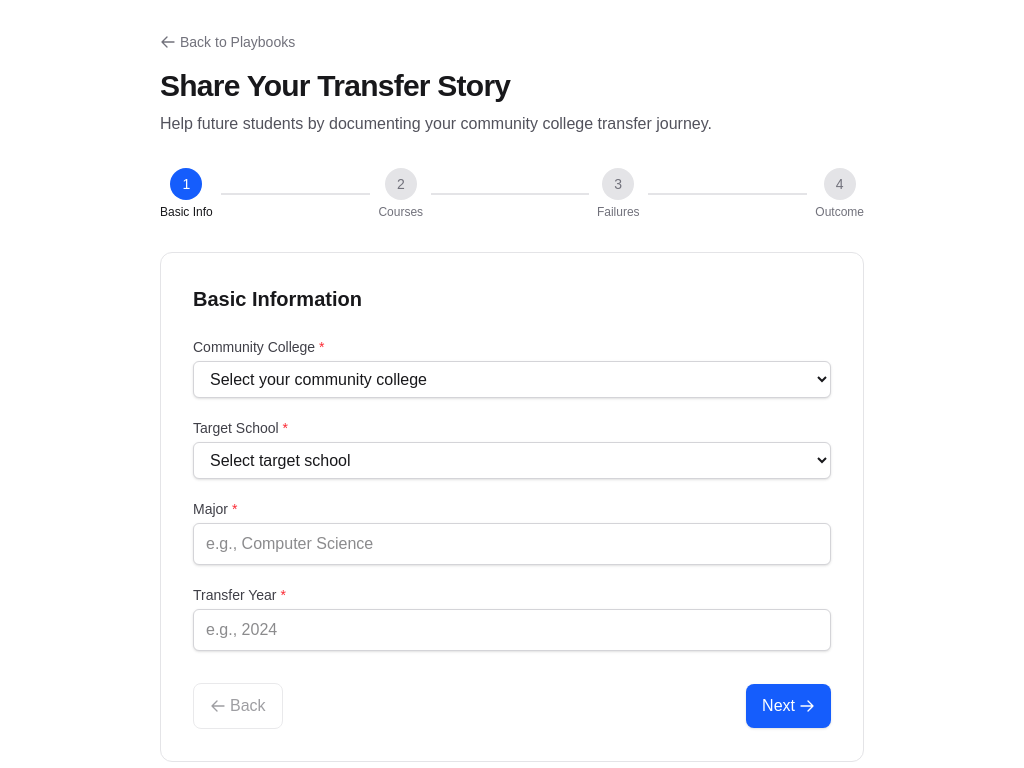
Scenario: PlaybookSubmitClient › shows validation errors for empty required fields on next
Step 1. Click the button with test id "next-step-button" → x=789, y=706, box [746,684,831,728]
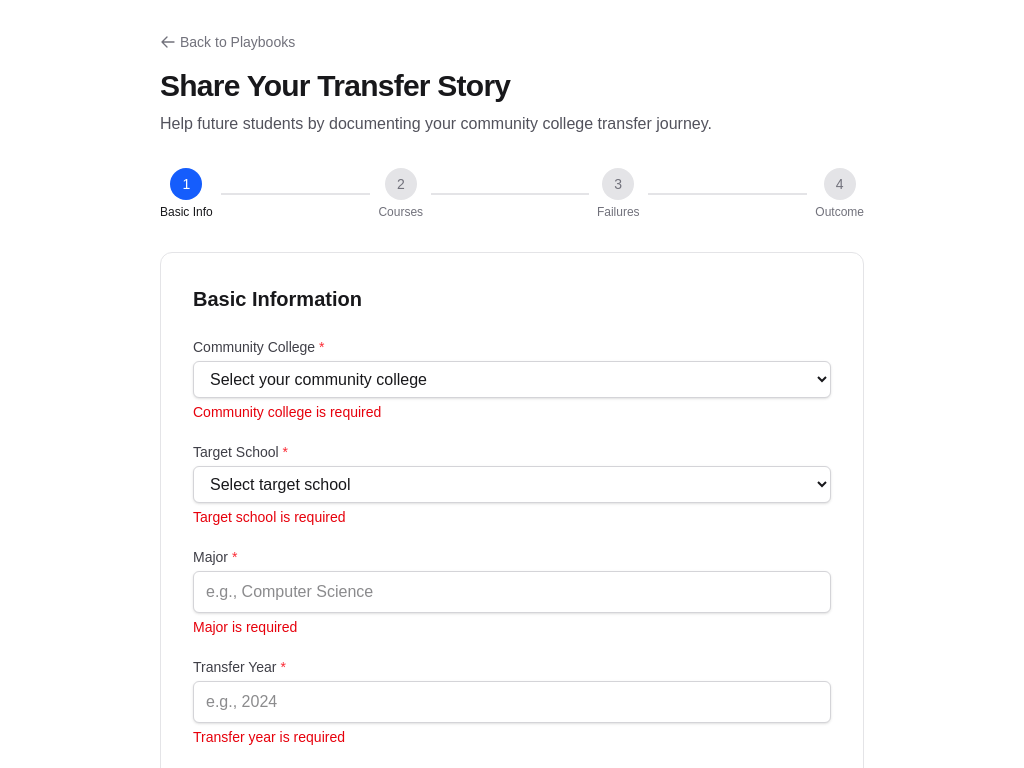
Now the message "Community college is required" is shown, box [193,404,381,420]
Now the message "Target school is required" is shown, box [193,509,346,525]
Now the message "Major is required" is shown, box [193,619,297,635]
